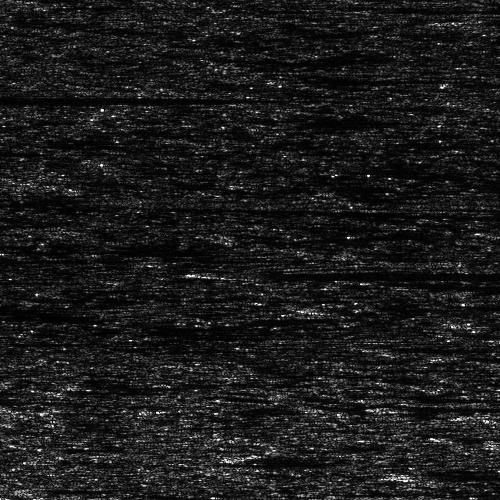rock: (324, 469, 481, 482), (204, 117, 319, 126), (161, 266, 244, 275), (344, 403, 417, 412), (459, 409, 500, 418), (431, 18, 494, 23), (349, 345, 402, 350), (360, 396, 401, 401), (2, 485, 33, 490)
shadow: (203, 266, 453, 275), (403, 469, 500, 482), (262, 117, 391, 126), (381, 403, 500, 412), (0, 95, 174, 100), (381, 396, 500, 401), (0, 274, 35, 285), (376, 345, 442, 350), (18, 485, 74, 490), (463, 18, 500, 23)
